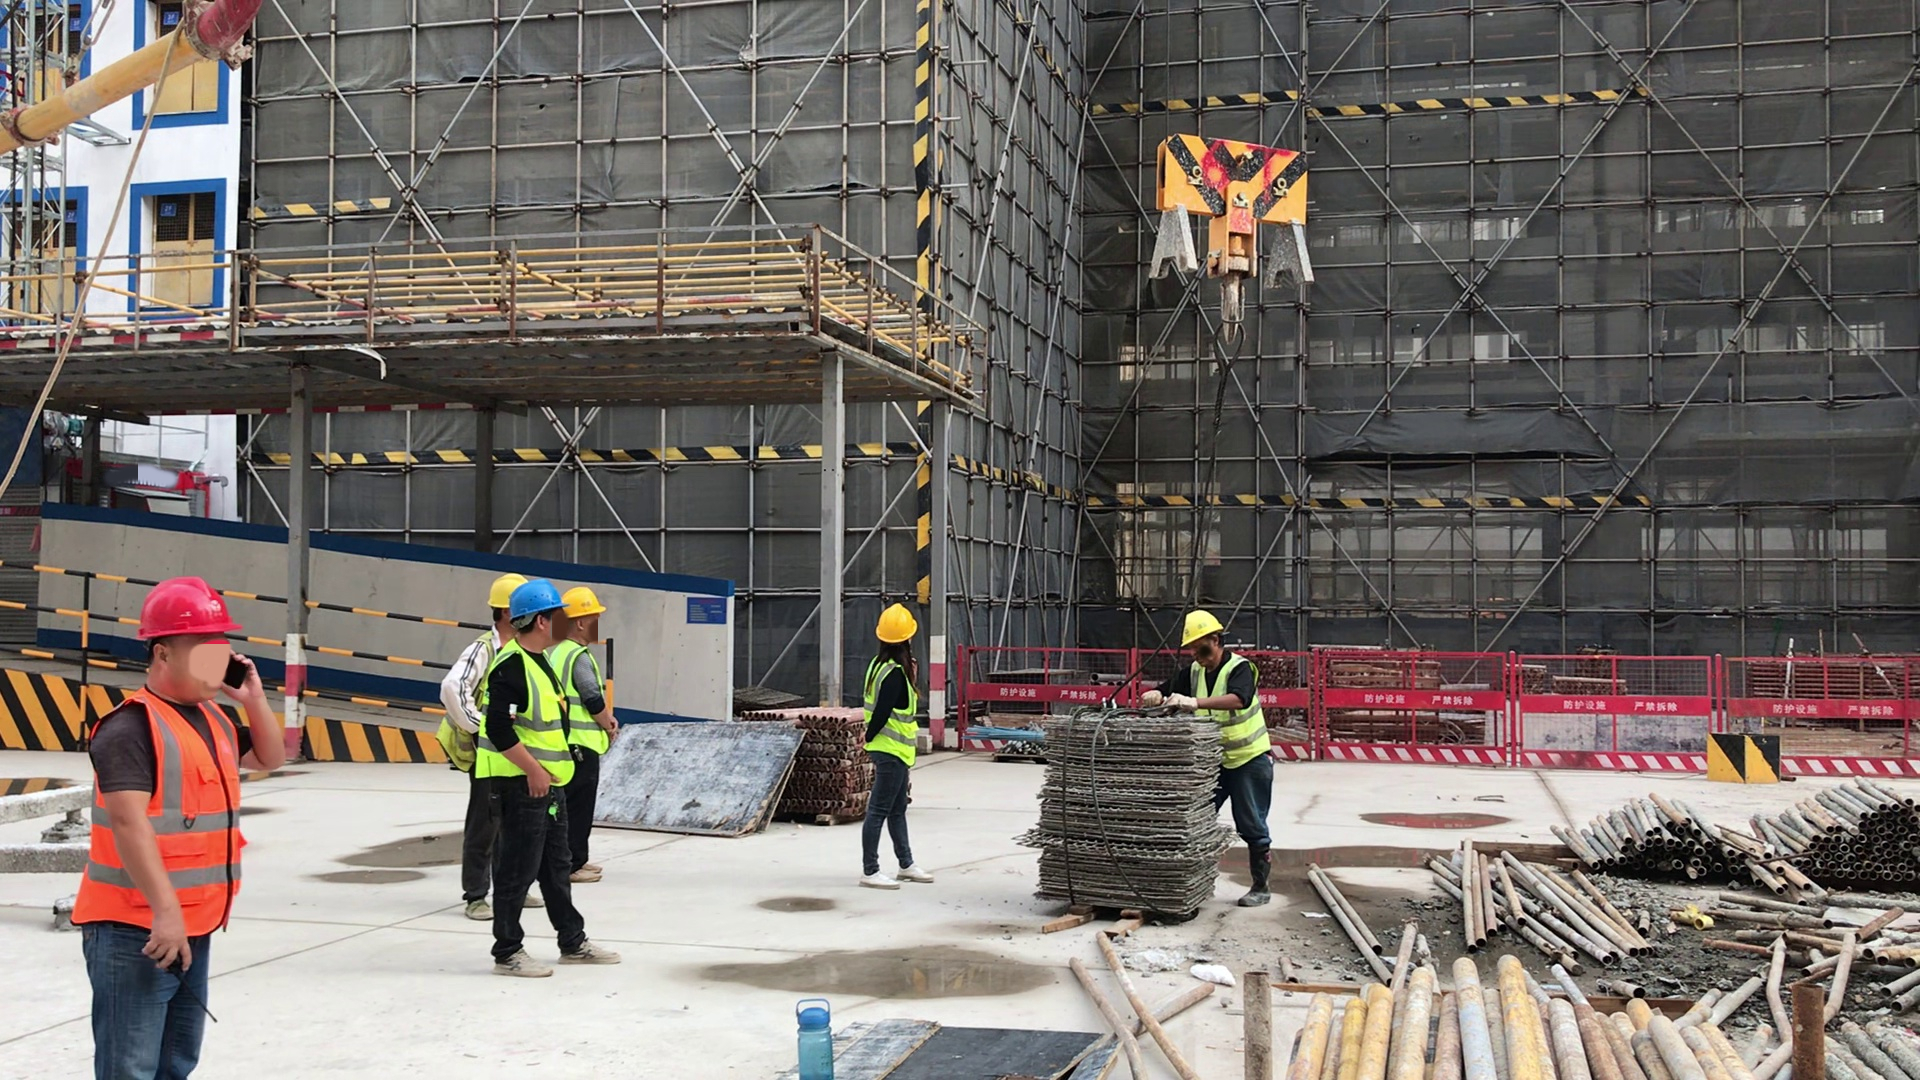fence: (961, 645, 1920, 776)
helmet: (138, 577, 238, 642), (509, 579, 563, 622), (871, 599, 916, 645), (555, 584, 604, 622), (485, 568, 524, 614), (1179, 610, 1221, 647)
hook: (1151, 126, 1319, 342)
person: (73, 577, 286, 1080), (476, 580, 624, 978), (1141, 610, 1276, 907), (437, 574, 544, 921), (857, 601, 941, 890), (550, 585, 607, 883)
scaffold: (1042, 710, 1219, 916), (800, 706, 862, 823)
vest: (74, 684, 246, 935), (473, 638, 574, 789), (1192, 654, 1275, 769), (548, 638, 609, 756), (862, 656, 915, 769)
